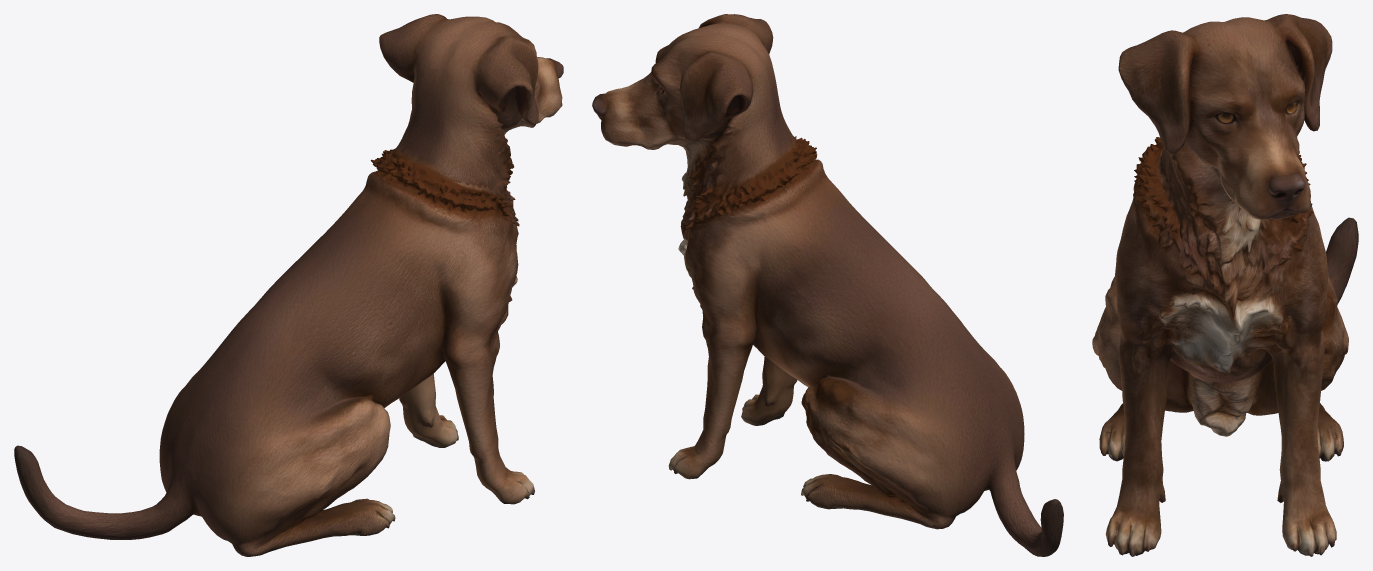
File: dog-sitting-upright.glb
3 views of the same model, side by side, from view 1: azimuth 30°, elevation 25°; view 2: azimuth 150°, elevation 25°; view 3: azimuth 270°, elevation 25° (orthographic). The views are drawn at different scales.
Parts seen in each view (by area): view 1: tripo_node_624b4645-e4cd-4b49-8738-963791bac749; view 2: tripo_node_624b4645-e4cd-4b49-8738-963791bac749; view 3: tripo_node_624b4645-e4cd-4b49-8738-963791bac749.
Part boxes in pixels (x1,y1,x2,y2): tripo_node_624b4645-e4cd-4b49-8738-963791bac749: [14, 14, 563, 556]; tripo_node_624b4645-e4cd-4b49-8738-963791bac749: [592, 14, 1063, 556]; tripo_node_624b4645-e4cd-4b49-8738-963791bac749: [1092, 14, 1358, 556].
Bounding box in the file's own units: 0.6753 × 0.55 × 0.2533.
Materials: 1 (1 with a texture image).
